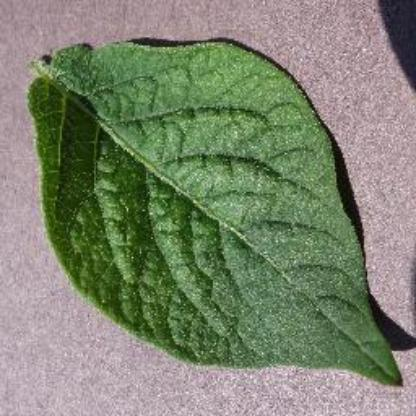Healthy-plant: (19, 33, 407, 391)
